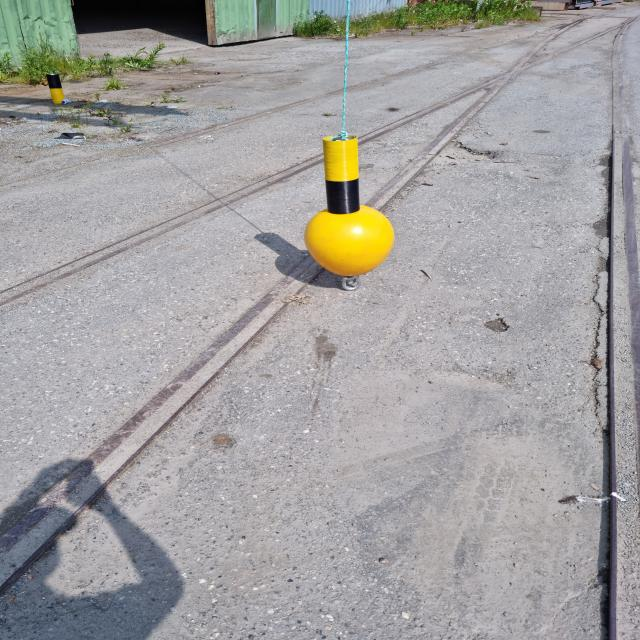west: (306, 133, 398, 278)
